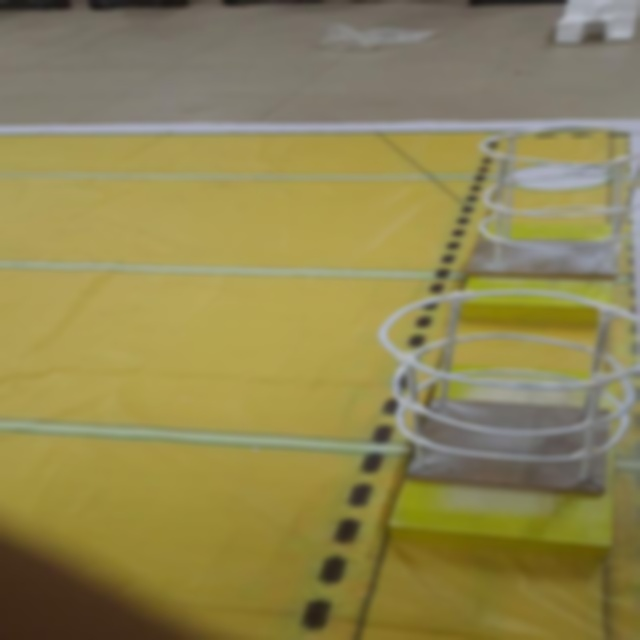silo: (357, 278, 640, 514), (453, 117, 640, 298)
